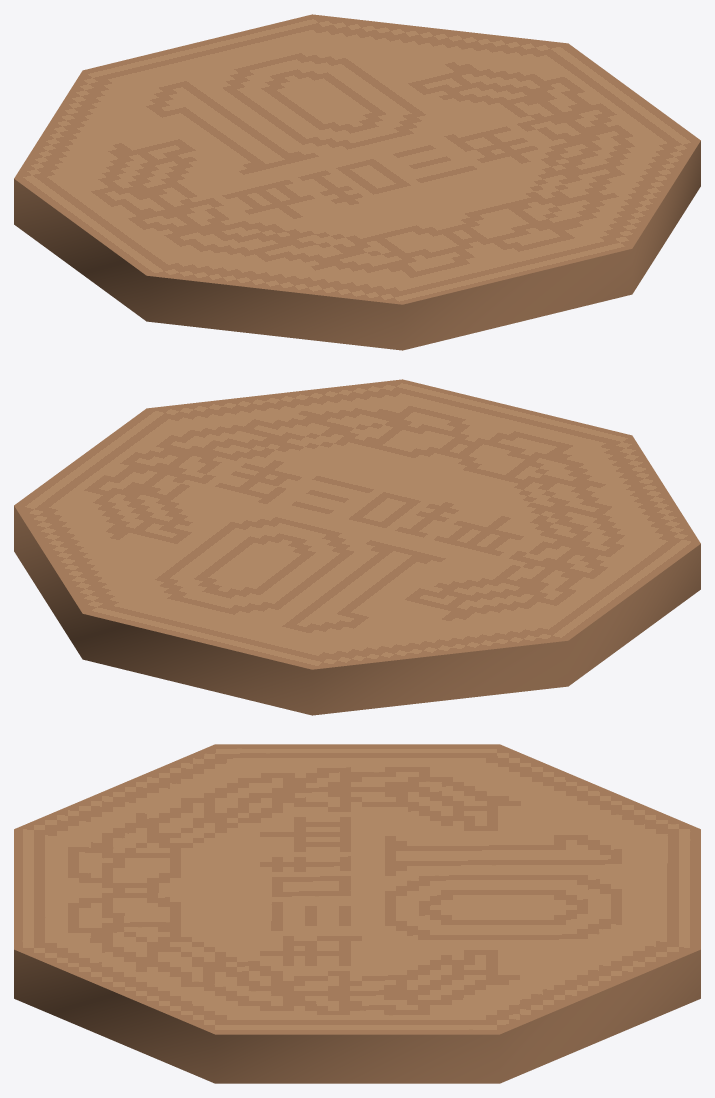
Rendered from 02ea_10_Yen_Coin.glb.
3 views of the same model, one above another, from view 1: azimuth 30°, elevation 25°; view 2: azimuth 150°, elevation 25°; view 3: azimuth 270°, elevation 25° (orthographic). The views are drawn at different scales.
Parts seen in each view (by area): view 1: part_0; view 2: part_0; view 3: part_0.
Boxes of the visible parts, box(x1,y1,x2,y2) form: part_0: box(14, 14, 700, 350); part_0: box(14, 379, 700, 715); part_0: box(14, 744, 700, 1083).
Size of the model in its own units: 0.0348 by 0.00275 by 0.0348.
Materials: 1 (1 with a texture image).
